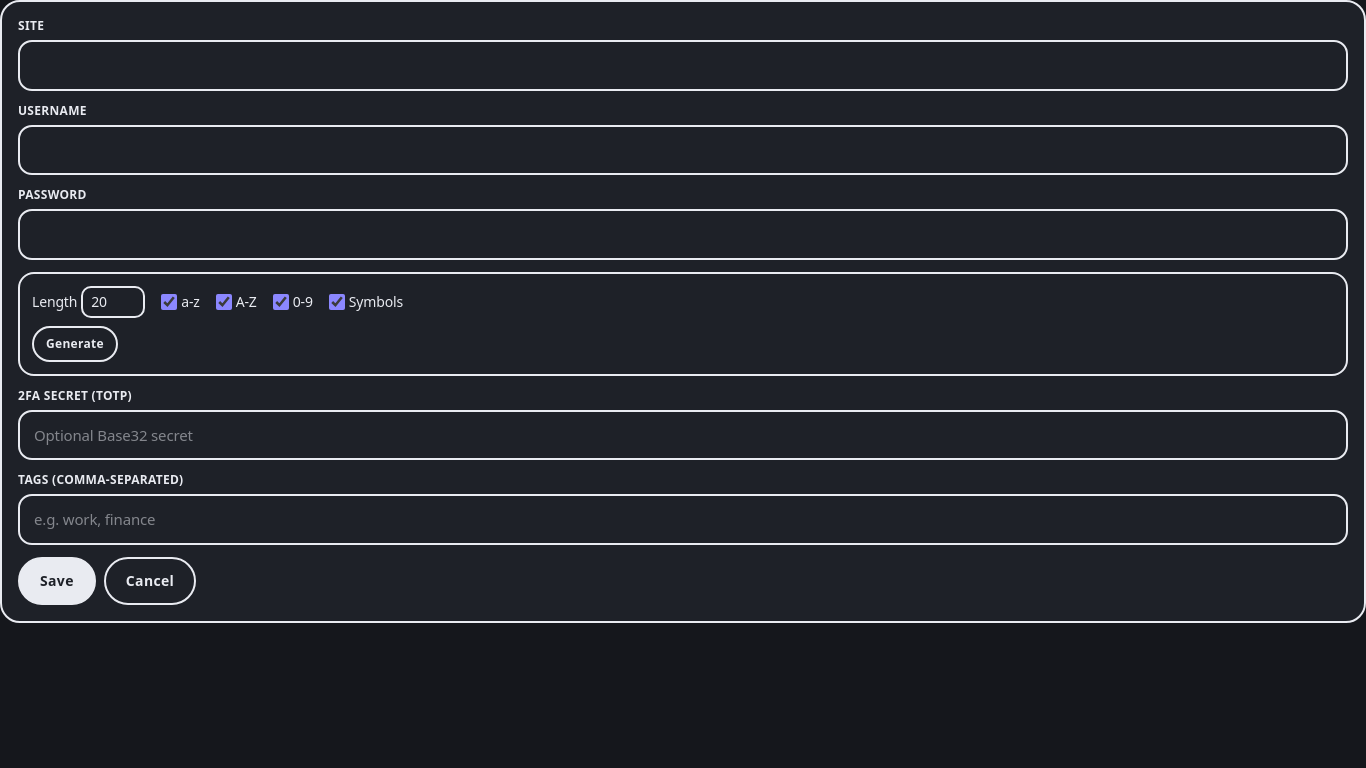
VaultItemForm 2FA secret › blocks submit and shows an alert for an invalid secret
Type "ex.com" into the field labelled "Site" at (683, 65), box [18,40,1348,90]
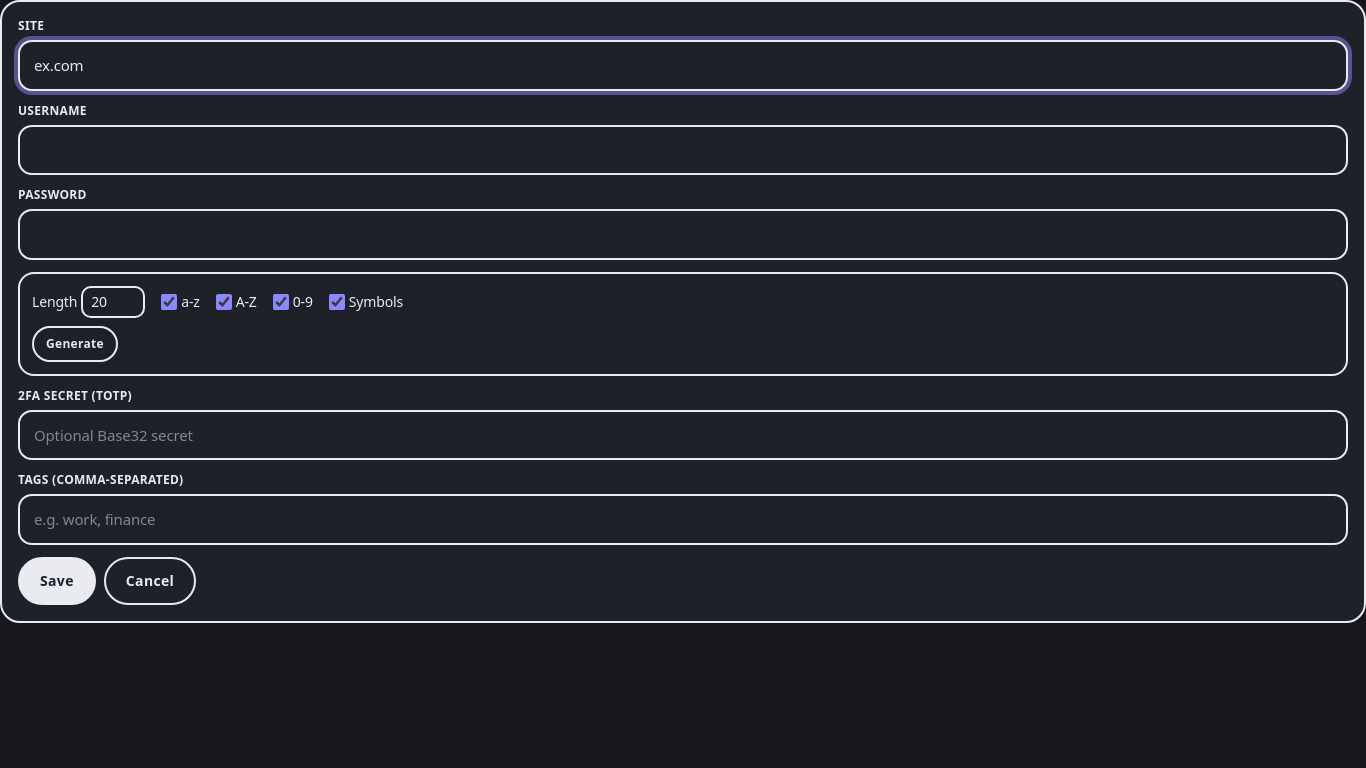
Type "bob" into the field labelled "Username" at (683, 150), box [18,124,1348,175]
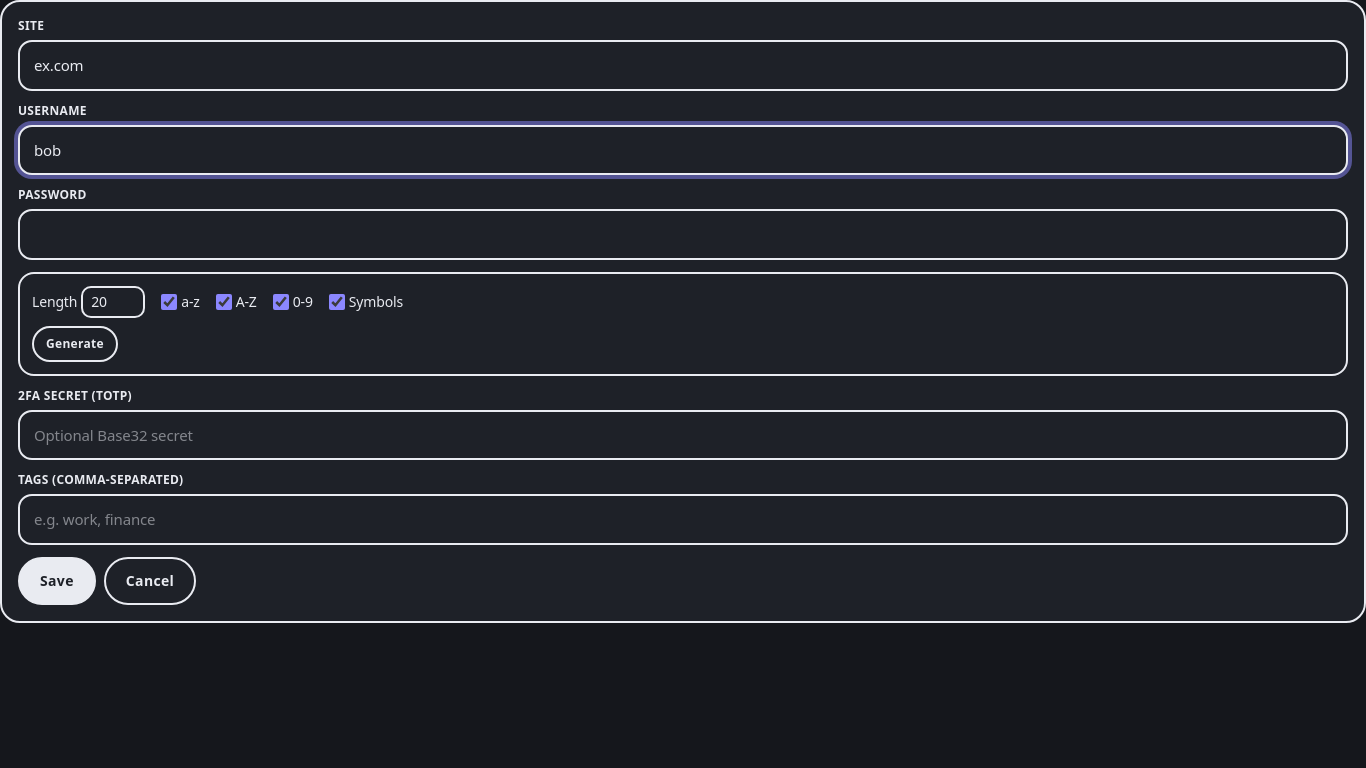
Type "pw!" into the password field labelled "Password" at (683, 234), box [18,209,1348,260]
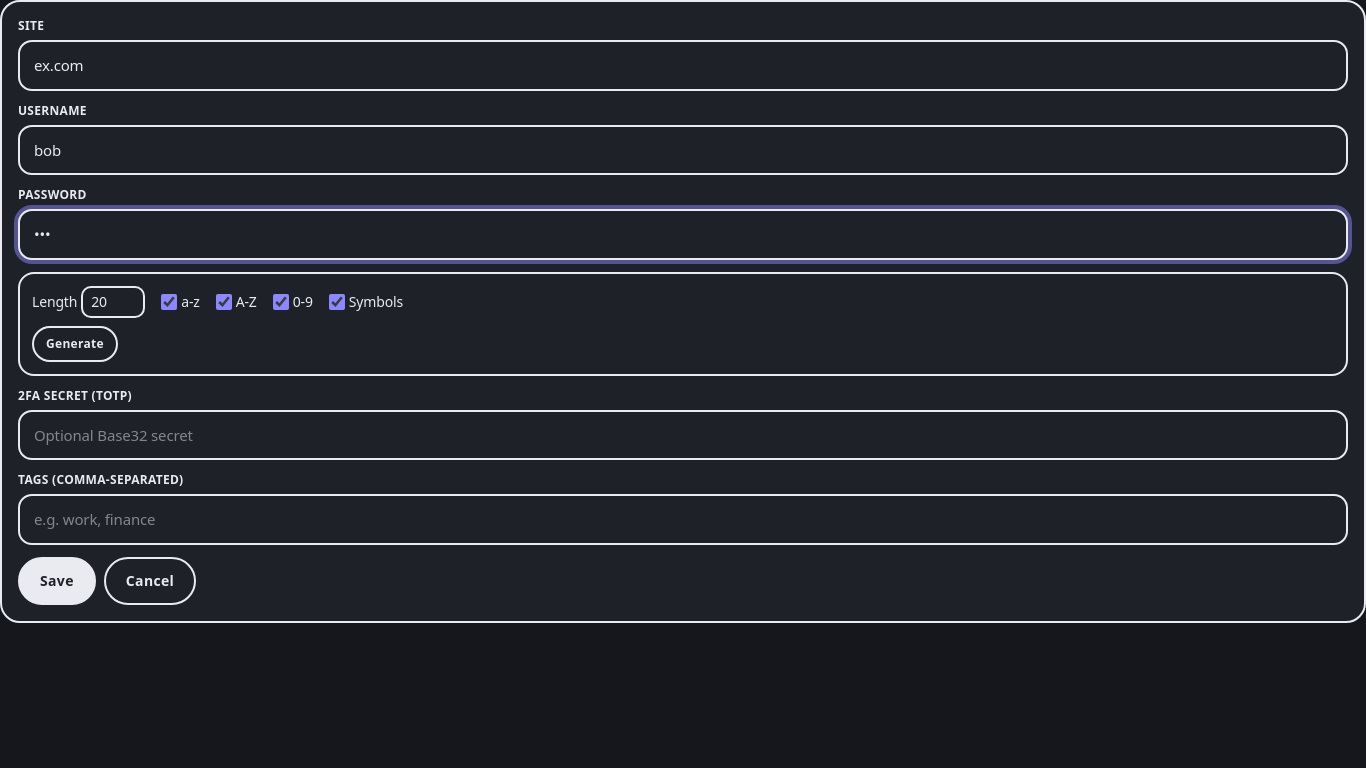
Type "abc!@#" into the field labelled "2FA secret (TOTP)" at (683, 435), box [18,410,1348,460]
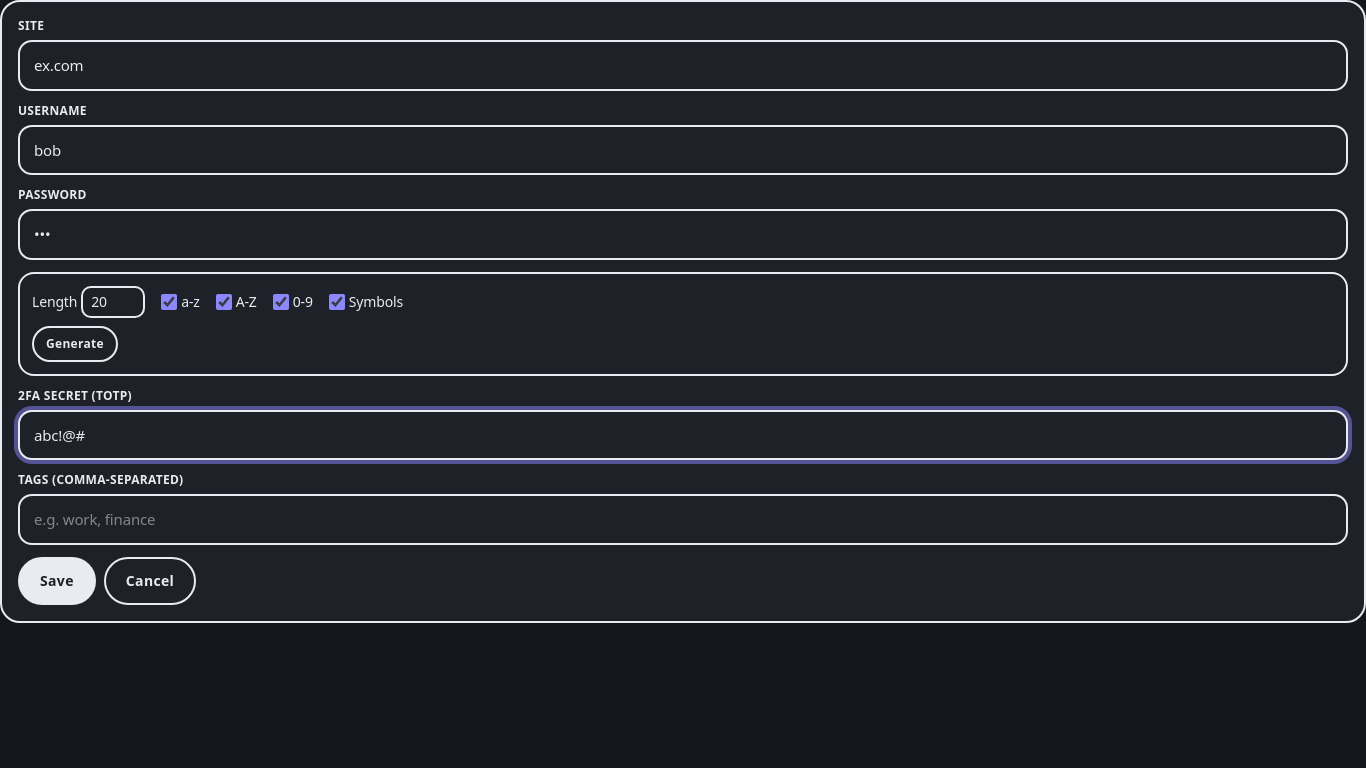
Click the button "Save" at (57, 580), box [18,556,96,604]
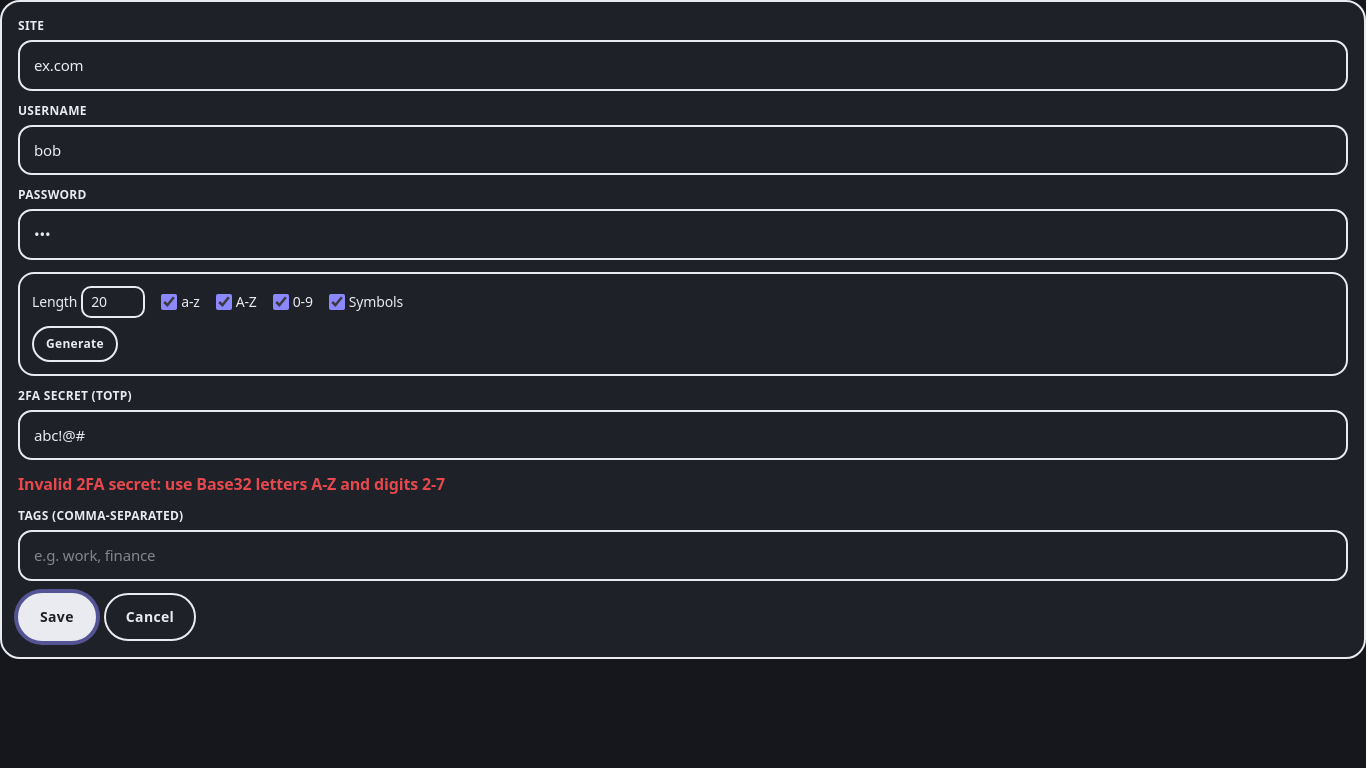
Now the message "Invalid 2FA secret: use Base32 letters A-Z and digits 2-7" is shown, box [18,473,445,495]
